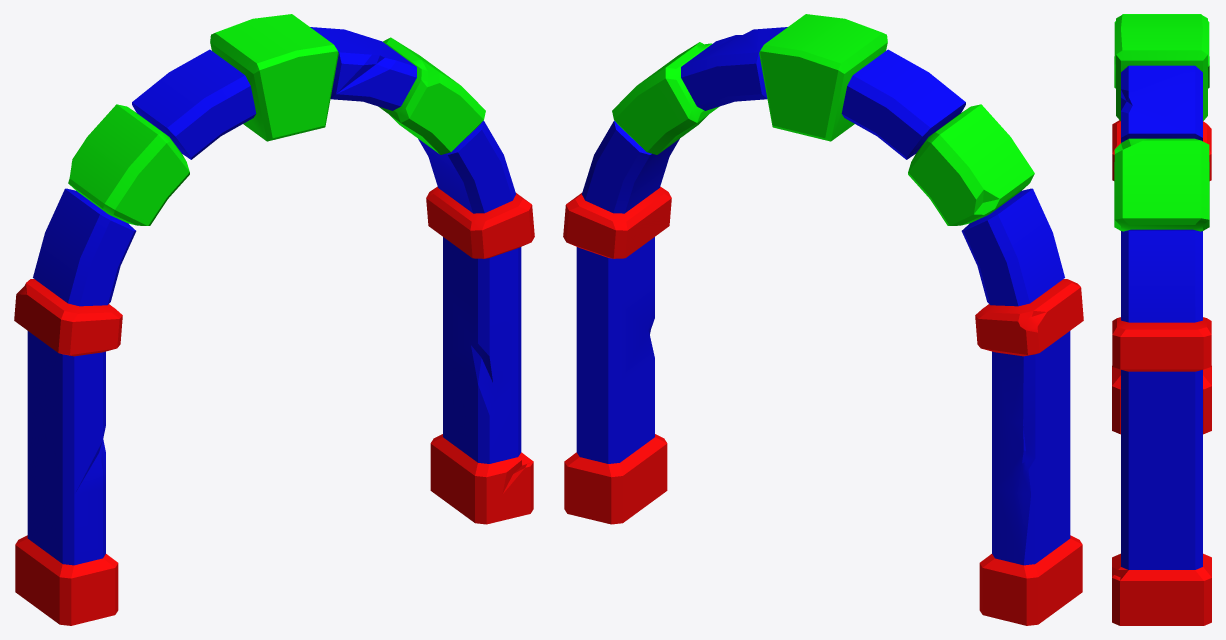
File: dungeon_arch.fbx
The picture shows the model from 3 angles, left to right: view 1: azimuth 30°, elevation 25°; view 2: azimuth 150°, elevation 25°; view 3: azimuth 270°, elevation 25°; orthographic projection. The views are drawn at different scales.
Parts seen in each view (by area): view 1: dungeon_arch; view 2: dungeon_arch; view 3: dungeon_arch.
Boxes of the visible parts, box(x1,y1,x2,y2) form: dungeon_arch: box(14, 14, 534, 625); dungeon_arch: box(563, 14, 1083, 625); dungeon_arch: box(1112, 14, 1211, 625).
Size of the model in its own units: 208 by 39.93 by 215.
